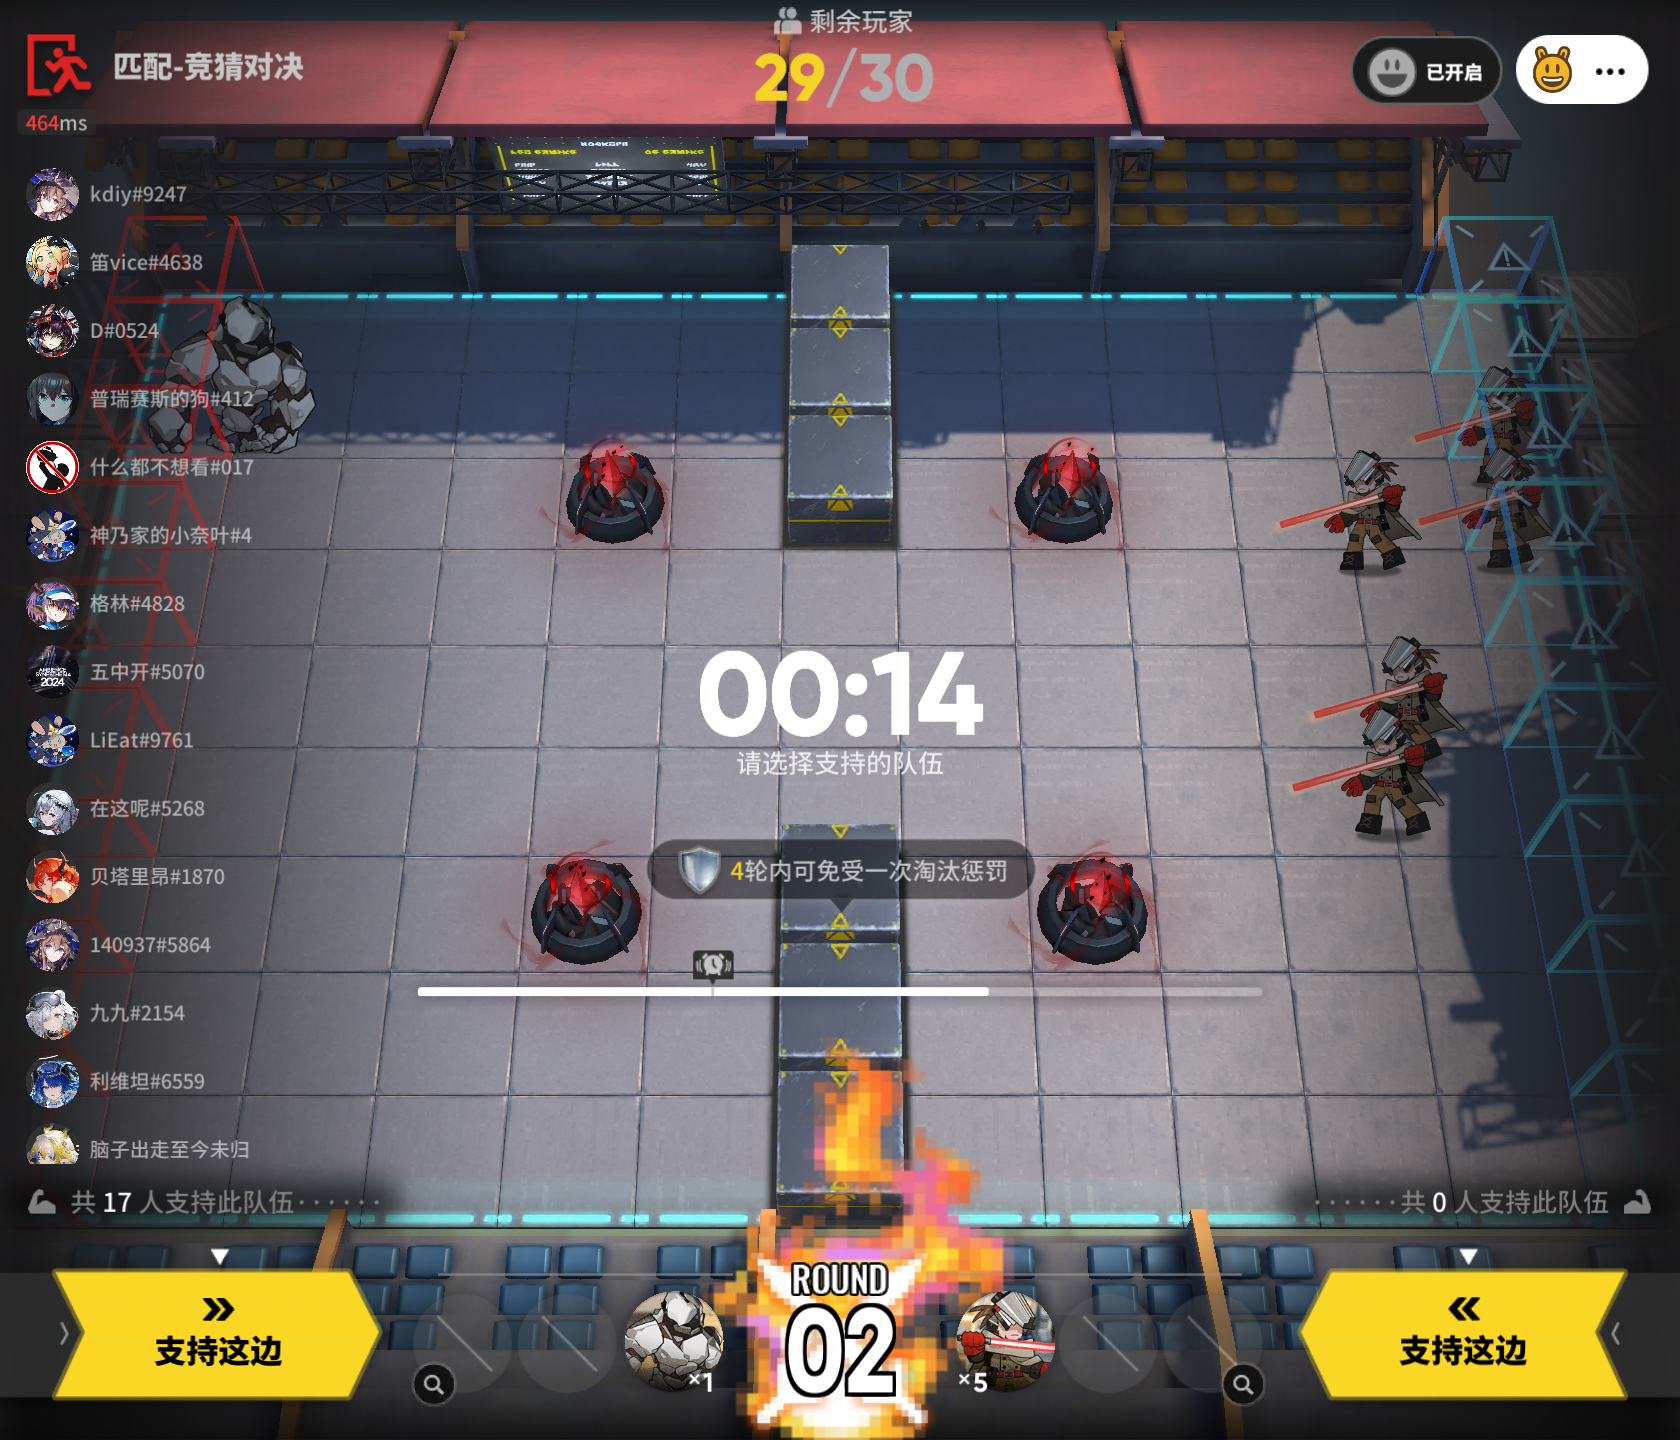弧光武士: (1286, 629, 1481, 766), (1299, 704, 1449, 846), (1270, 446, 1419, 574), (1419, 351, 1566, 474), (1426, 453, 1567, 579), (941, 1284, 1059, 1393)
源石祭坛: (1034, 841, 1159, 976), (549, 437, 671, 553), (533, 849, 653, 961), (1016, 429, 1111, 549)
砸人的石头: (141, 293, 319, 460), (629, 1284, 731, 1394)
阻挡物: (767, 1069, 907, 1211), (777, 934, 909, 1074), (769, 821, 906, 946), (789, 406, 900, 549), (784, 319, 893, 411), (791, 241, 894, 324)
